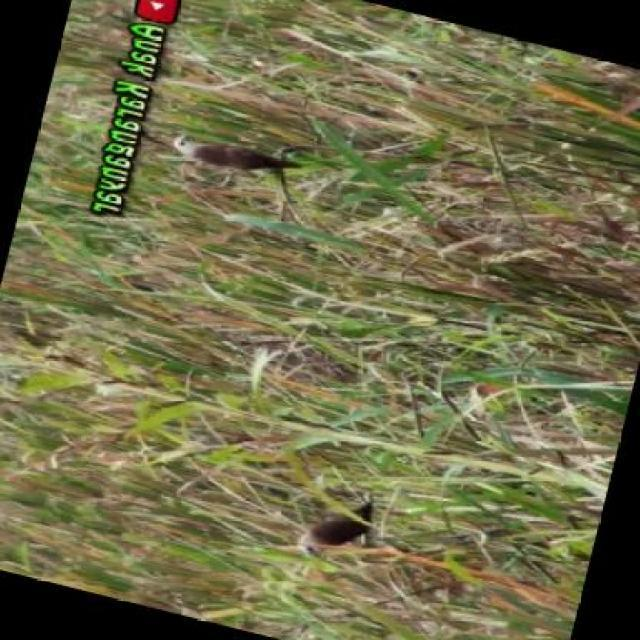Bird: (162, 125, 298, 193), (295, 492, 399, 564)
